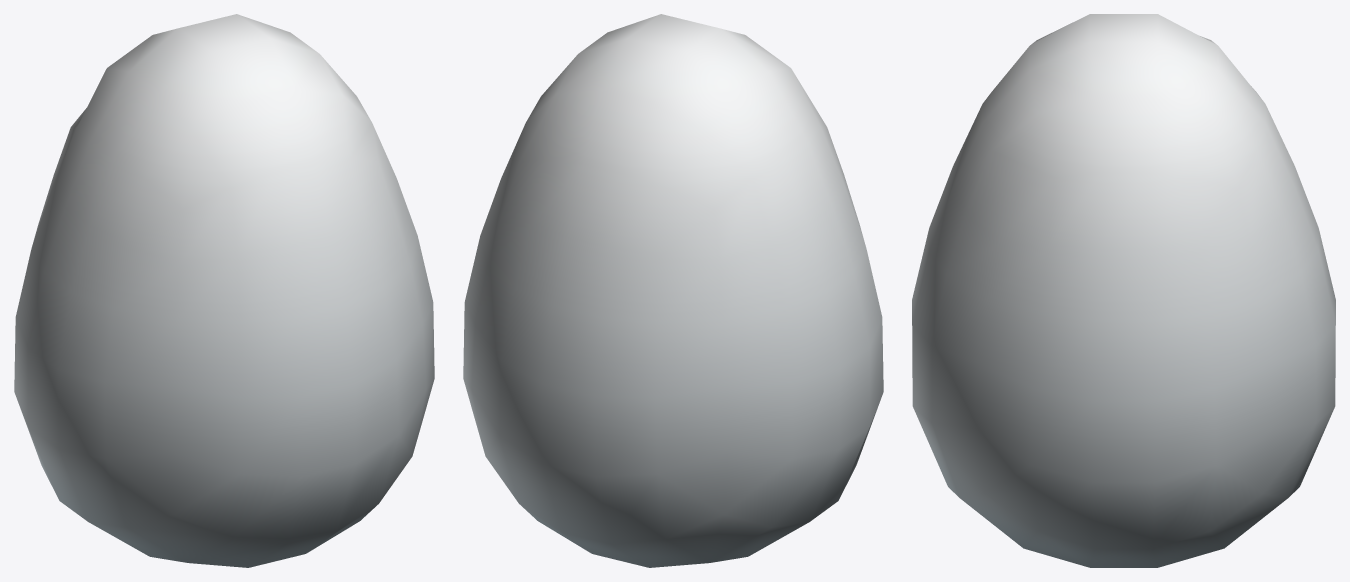
File: egg_002.fbx
3 views of the same model, side by side, from view 1: azimuth 30°, elevation 25°; view 2: azimuth 150°, elevation 25°; view 3: azimuth 270°, elevation 25° (orthographic).
Parts seen in each view (by area): view 1: egg_002; view 2: egg_002; view 3: egg_002.
Part boxes in pixels (x1=…): egg_002: x1=14, y1=14, x2=434, y2=567; egg_002: x1=463, y1=14, x2=883, y2=567; egg_002: x1=912, y1=14, x2=1335, y2=567.
Size of the model in its own units: 6.25 by 6.25 by 8.36.
